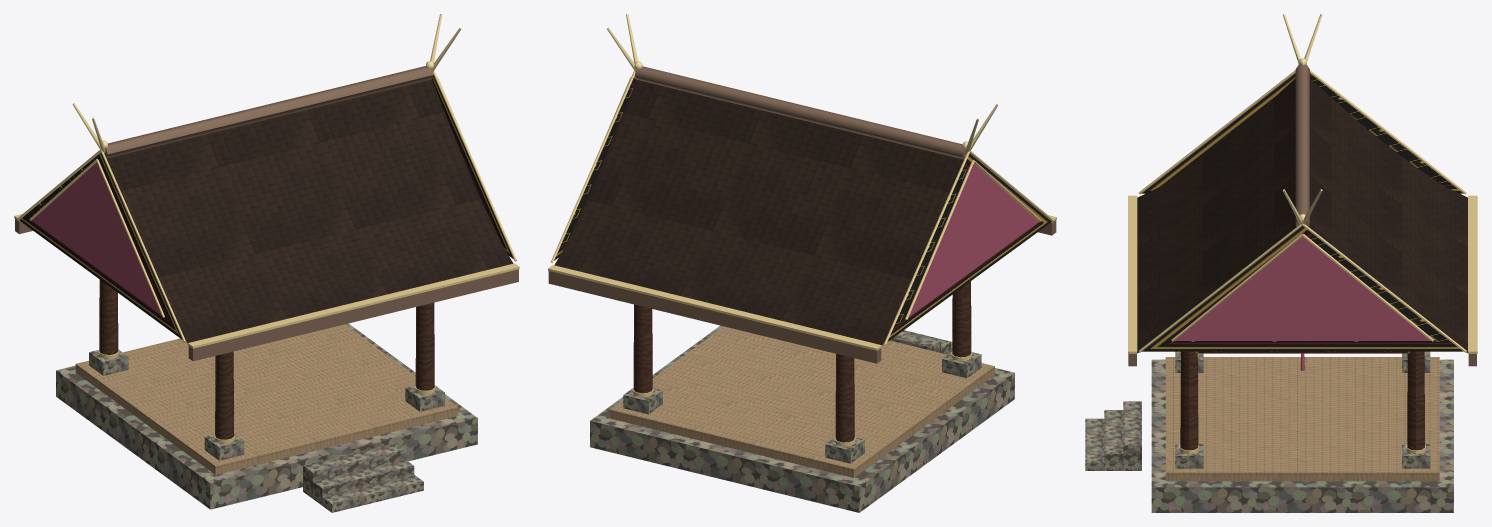
Rendered from pavilion-placeholder.glb.
The picture shows the model from 3 angles, left to right: view 1: azimuth 30°, elevation 25°; view 2: azimuth 150°, elevation 25°; view 3: azimuth 270°, elevation 25°; orthographic projection. The views are drawn at different scales.
Visible parts, largest first — view 1: pavilion_placeholder; view 2: pavilion_placeholder; view 3: pavilion_placeholder.
Part boxes in pixels (x1,y1,x2,y2): pavilion_placeholder: [14, 14, 519, 512]; pavilion_placeholder: [548, 14, 1056, 512]; pavilion_placeholder: [1085, 14, 1477, 512].
Size of the model in its own units: 8.84 by 8.11 by 8.3.
10 materials, 5 textured.
